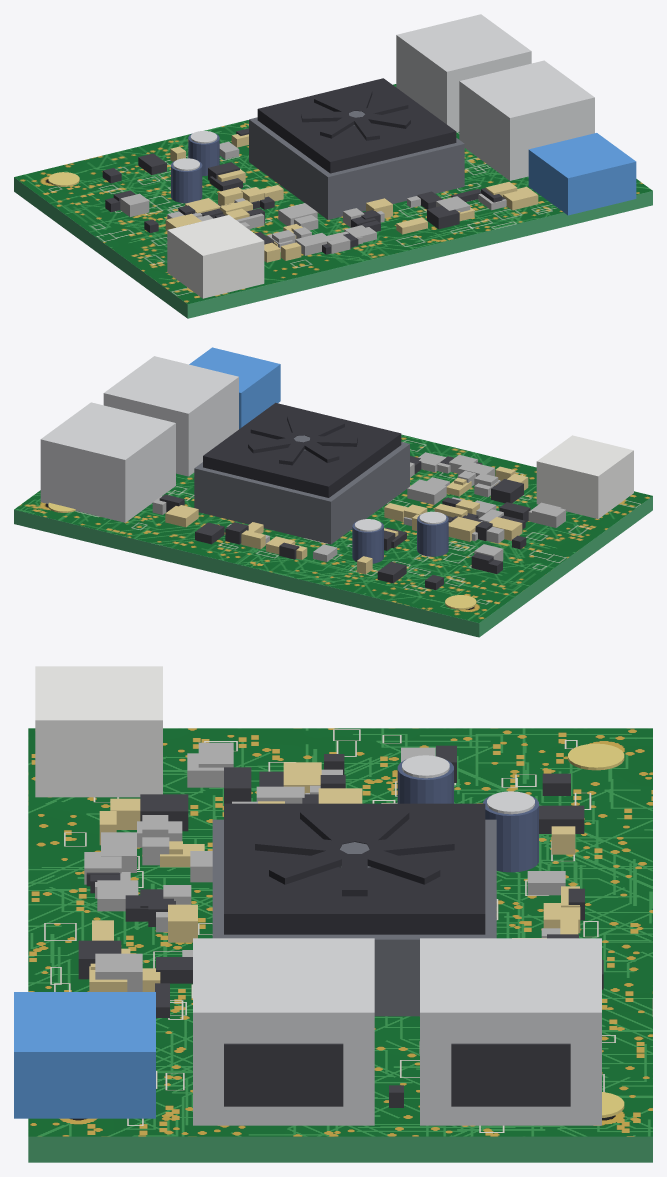
3 renders of one model, top to bottom at view 1: azimuth 30°, elevation 25°; view 2: azimuth 150°, elevation 25°; view 3: azimuth 270°, elevation 25°, orthographic. The views are drawn at different scales.
Visible parts, largest first — view 1: pcb_top, silver, fan, heat, pcb_body, blue, white, tan, res, ic, cap; view 2: pcb_top, silver, fan, heat, pcb_body, white, res, ic, tan, blue, cap, gold; view 3: pcb_top, silver, fan, ic, blue, pcb_body, white, res, tan, heat, cap, gold.
Part boxes in pixels (x1=…): pcb_top: x1=14, y1=84, x2=652, y2=304; silver: x1=173, y1=14, x2=594, y2=180; fan: x1=257, y1=78, x2=456, y2=173; heat: x1=249, y1=111, x2=464, y2=219; pcb_body: x1=14, y1=177, x2=652, y2=318; blue: x1=528, y1=133, x2=636, y2=215; white: x1=167, y1=215, x2=264, y2=298; tan: x1=165, y1=134, x2=538, y2=262; res: x1=120, y1=141, x2=506, y2=255; ic: x1=102, y1=128, x2=505, y2=254; cap: x1=171, y1=133, x2=219, y2=203; pcb_top: x1=14, y1=434, x2=652, y2=622; silver: x1=40, y1=356, x2=446, y2=531; fan: x1=203, y1=402, x2=401, y2=497; heat: x1=194, y1=435, x2=409, y2=544; pcb_body: x1=14, y1=496, x2=652, y2=637; white: x1=536, y1=435, x2=633, y2=518; res: x1=152, y1=452, x2=565, y2=561; ic: x1=159, y1=456, x2=530, y2=590; tan: x1=165, y1=466, x2=528, y2=574; blue: x1=189, y1=347, x2=280, y2=428; cap: x1=352, y1=514, x2=448, y2=563; gold: x1=48, y1=502, x2=476, y2=609; pcb_top: x1=28, y1=728, x2=652, y2=1136; silver: x1=193, y1=755, x2=601, y2=1125; fan: x1=224, y1=803, x2=485, y2=934; ic: x1=78, y1=745, x2=603, y2=1107; blue: x1=14, y1=992, x2=155, y2=1118; pcb_body: x1=28, y1=1136, x2=652, y2=1162; white: x1=35, y1=666, x2=162, y2=797; res: x1=84, y1=742, x2=565, y2=991; tan: x1=89, y1=762, x2=580, y2=991; heat: x1=212, y1=819, x2=496, y2=1016; cap: x1=397, y1=759, x2=538, y2=872; gold: x1=568, y1=743, x2=624, y2=1117.
Bounding box in the file's own units: 3.4 × 0.54 × 2.25.
Materials: 12 (1 with a texture image).
